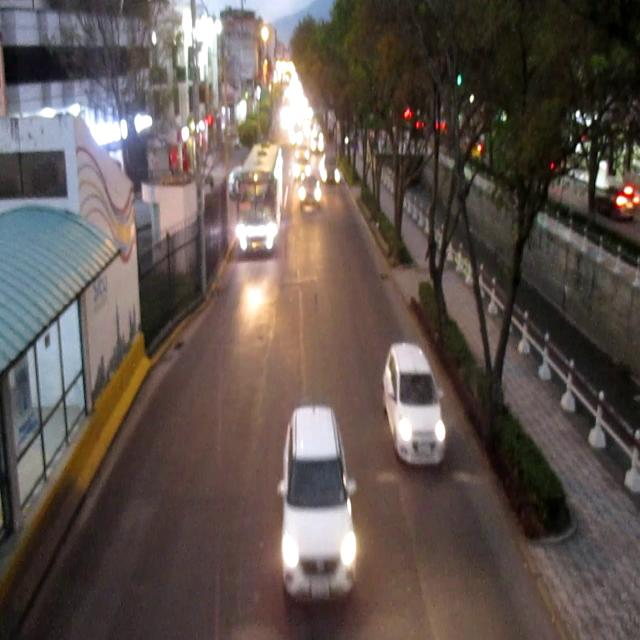BUS: (234, 149, 281, 257)
